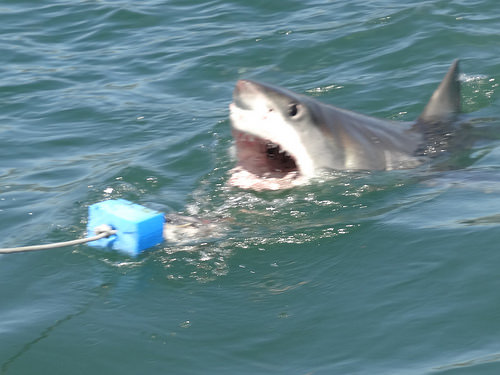shark: (199, 23, 480, 208)
